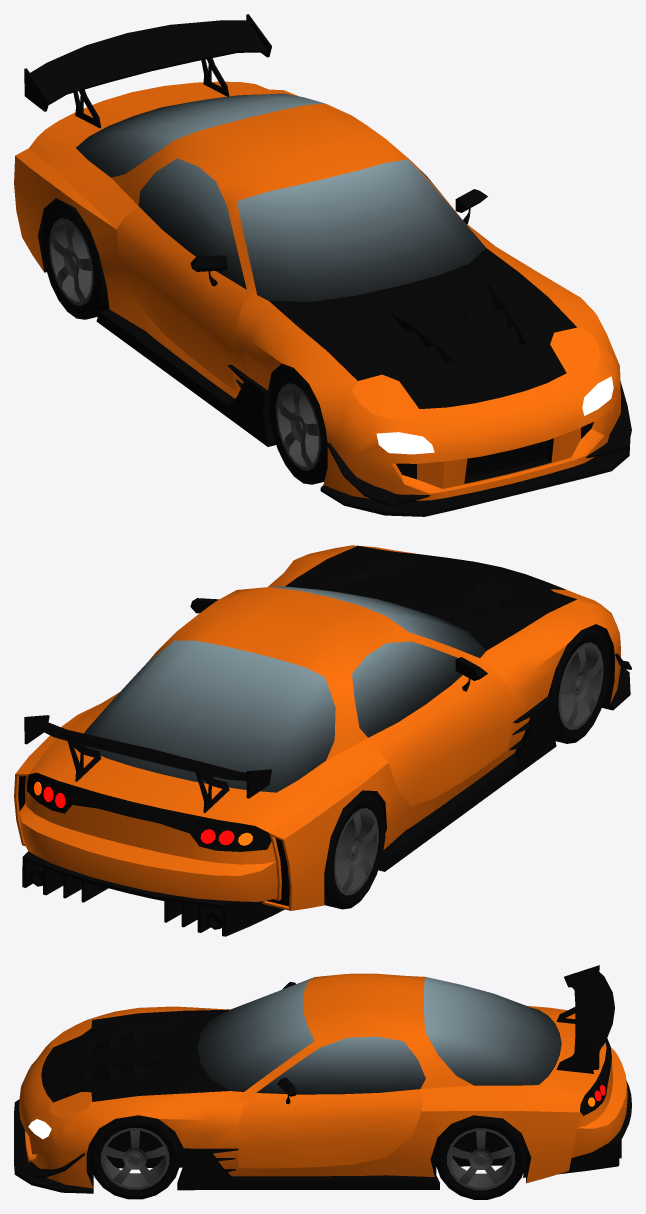
The model's file is car.glb.
The picture shows the model from 3 angles, top to bottom: view 1: azimuth 30°, elevation 25°; view 2: azimuth 150°, elevation 25°; view 3: azimuth 270°, elevation 25°; orthographic projection. The views are drawn at different scales.
Visible parts, largest first — view 1: Plane, Plane.003, Plane.002, Circle.001, Circle.010, Circle.005, Circle.009, Plane.001; view 2: Plane, Plane.003, Plane.002, Circle.010, Circle.001, Circle.005, Circle.009, Circle.002; view 3: Plane, Plane.003, Plane.002, Circle.004, Circle.007, Circle.008, Circle.006.
Boxes of the visible parts, <box> form: Plane: <box>14,81,620,500</box>; Plane.003: <box>24,14,631,516</box>; Plane.002: <box>76,93,485,301</box>; Circle.001: <box>49,218,93,305</box>; Circle.010: <box>276,383,320,470</box>; Circle.005: <box>42,202,109,319</box>; Circle.009: <box>269,367,327,484</box>; Plane.001: <box>376,376,613,454</box>; Plane: <box>14,545,620,910</box>; Plane.003: <box>18,546,631,936</box>; Plane.002: <box>84,586,485,792</box>; Circle.010: <box>558,642,603,729</box>; Circle.001: <box>334,808,378,895</box>; Circle.005: <box>324,792,385,909</box>; Circle.009: <box>548,627,609,743</box>; Circle.002: <box>43,786,234,845</box>; Plane: <box>19,973,627,1188</box>; Plane.003: <box>14,965,631,1193</box>; Plane.002: <box>197,977,561,1094</box>; Circle.004: <box>90,1115,180,1199</box>; Circle.007: <box>436,1115,525,1199</box>; Circle.008: <box>447,1128,514,1190</box>; Circle.006: <box>101,1128,169,1189</box>.
Size of the model in its own units: 1.25 by 0.7872 by 2.94.
8 materials, 5 textured.
